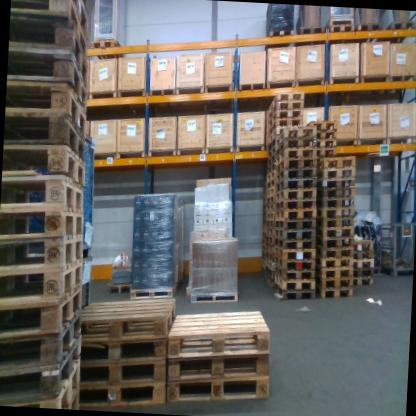pallet: (168, 296, 273, 365), (6, 25, 92, 94), (0, 338, 84, 406), (5, 46, 88, 112), (0, 312, 84, 375), (5, 78, 92, 137), (78, 292, 177, 343), (3, 100, 85, 161), (162, 368, 270, 410), (0, 285, 83, 339), (9, 13, 94, 63), (75, 349, 169, 394), (0, 231, 89, 278), (2, 137, 86, 186), (0, 262, 84, 311), (0, 205, 87, 250), (0, 170, 85, 216), (167, 349, 269, 385), (76, 331, 163, 366), (79, 377, 166, 412), (9, 0, 90, 34), (128, 276, 173, 302), (187, 288, 241, 308), (276, 124, 315, 150), (275, 164, 316, 188), (275, 146, 314, 170), (316, 152, 356, 175), (274, 156, 314, 179), (273, 254, 318, 274), (264, 25, 297, 52), (267, 97, 302, 122), (275, 135, 311, 159), (273, 243, 316, 263), (273, 225, 317, 244), (59, 367, 80, 406), (276, 185, 315, 206), (267, 91, 304, 113), (90, 37, 125, 60), (267, 107, 299, 132), (314, 195, 356, 214), (274, 263, 316, 282), (383, 15, 413, 41), (314, 274, 353, 294), (315, 243, 354, 263), (275, 175, 314, 195), (315, 214, 356, 233), (315, 175, 355, 194), (273, 206, 315, 224), (314, 265, 351, 285), (274, 284, 315, 302), (315, 253, 355, 271), (355, 18, 380, 46), (325, 16, 354, 40), (268, 117, 299, 139), (316, 204, 356, 221), (315, 234, 353, 251), (317, 186, 355, 203), (316, 226, 356, 242), (275, 198, 315, 214), (272, 218, 316, 232), (273, 277, 315, 291), (274, 238, 315, 252), (296, 19, 322, 41), (319, 167, 354, 183), (315, 286, 352, 301), (300, 120, 337, 134), (107, 280, 130, 301), (306, 134, 338, 149), (310, 148, 337, 162), (307, 127, 336, 140), (350, 266, 375, 279), (351, 256, 374, 270), (352, 237, 371, 252), (351, 275, 374, 287), (352, 248, 374, 257), (267, 128, 279, 144), (266, 184, 278, 198), (266, 162, 277, 175), (266, 177, 277, 190), (267, 145, 276, 160), (266, 169, 276, 182), (268, 139, 277, 152), (265, 204, 275, 215), (266, 194, 275, 206), (264, 258, 273, 270), (264, 233, 274, 243), (264, 250, 274, 260), (264, 268, 273, 279), (267, 153, 274, 167), (266, 212, 275, 221), (265, 220, 274, 229), (264, 277, 273, 286), (265, 243, 273, 250), (265, 228, 273, 234)
stillage: (371, 220, 414, 278)
